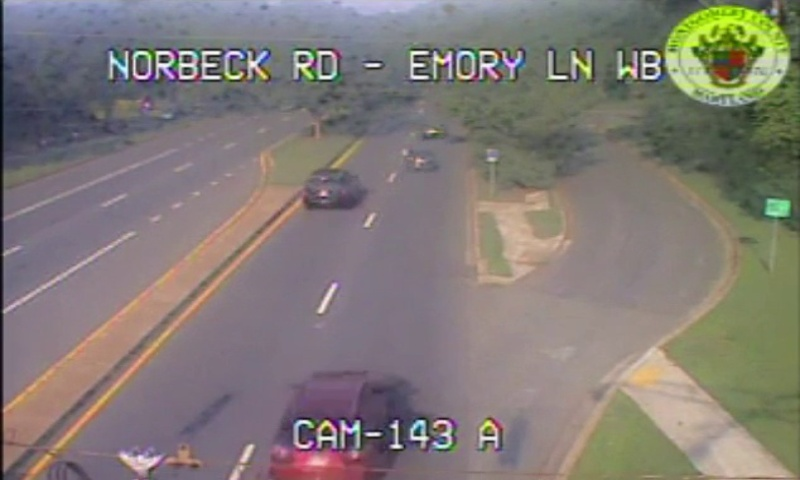car: (268, 374, 379, 480), (305, 170, 357, 208)
